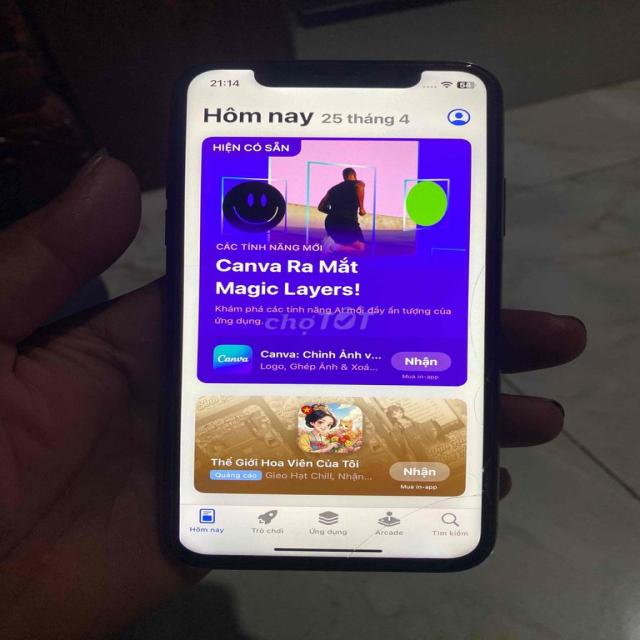physical_damage: (320, 452, 488, 561)
